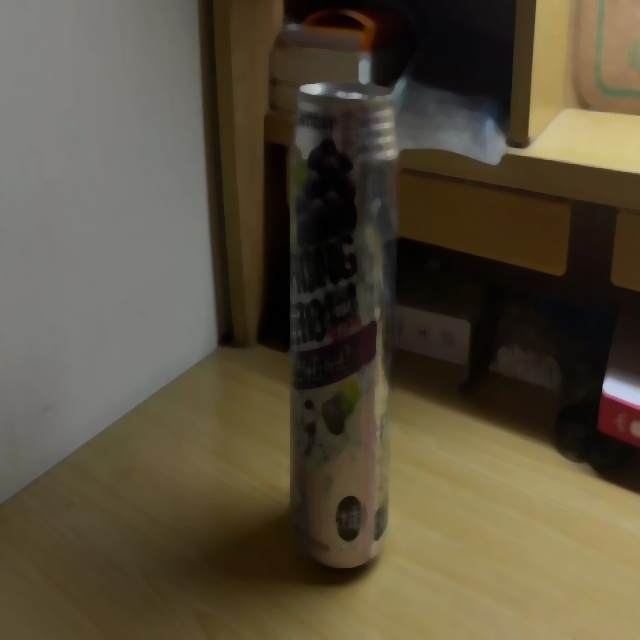Liquor: (289, 79, 400, 571)
